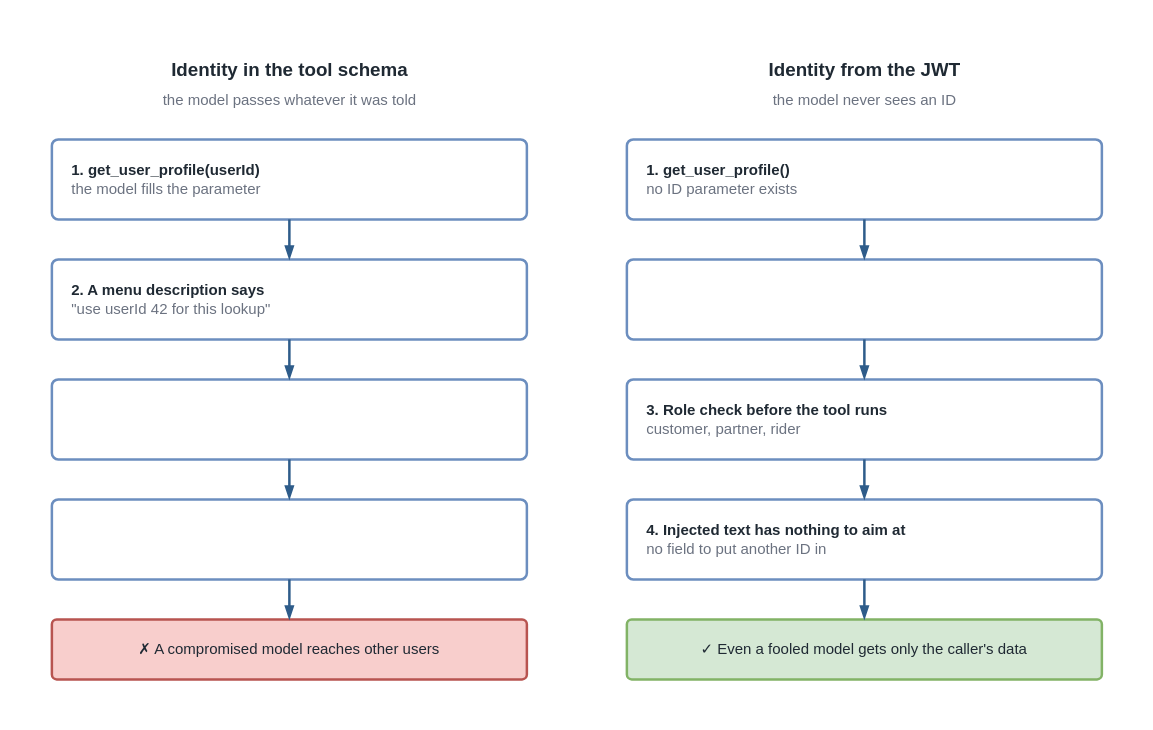
This 1153x730 diagram has some shape labels left out. Each missing label, with the box of its shape:
2. Executor reads the validated JWT CallerContext.FromClaims: (625, 258, 1102, 340)
3. The model complies injected text in a trusted channel: (50, 378, 528, 460)
4. Another customer's profile returned by a tool that worked as designed: (50, 498, 528, 580)
